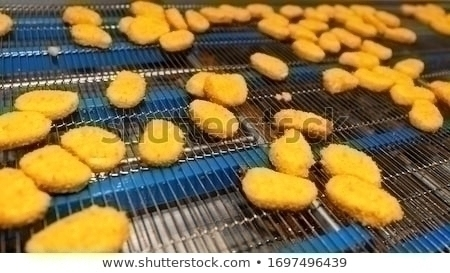chicken 2: (23, 204, 138, 253), (324, 175, 405, 228), (19, 143, 92, 193), (241, 166, 318, 213), (61, 125, 126, 174), (319, 145, 383, 187), (188, 65, 253, 104), (137, 119, 187, 169), (268, 128, 316, 178), (14, 88, 79, 121), (187, 99, 239, 140), (273, 109, 337, 140), (105, 70, 147, 109), (119, 14, 169, 44), (410, 97, 443, 132), (70, 24, 113, 50), (390, 82, 438, 105), (250, 53, 289, 79), (201, 5, 253, 24), (61, 4, 105, 26), (339, 49, 382, 70), (291, 37, 327, 62), (323, 68, 358, 93), (257, 18, 293, 41), (160, 31, 196, 53), (395, 57, 427, 79), (329, 28, 364, 48), (185, 7, 211, 33), (384, 26, 418, 45), (165, 5, 188, 32)
